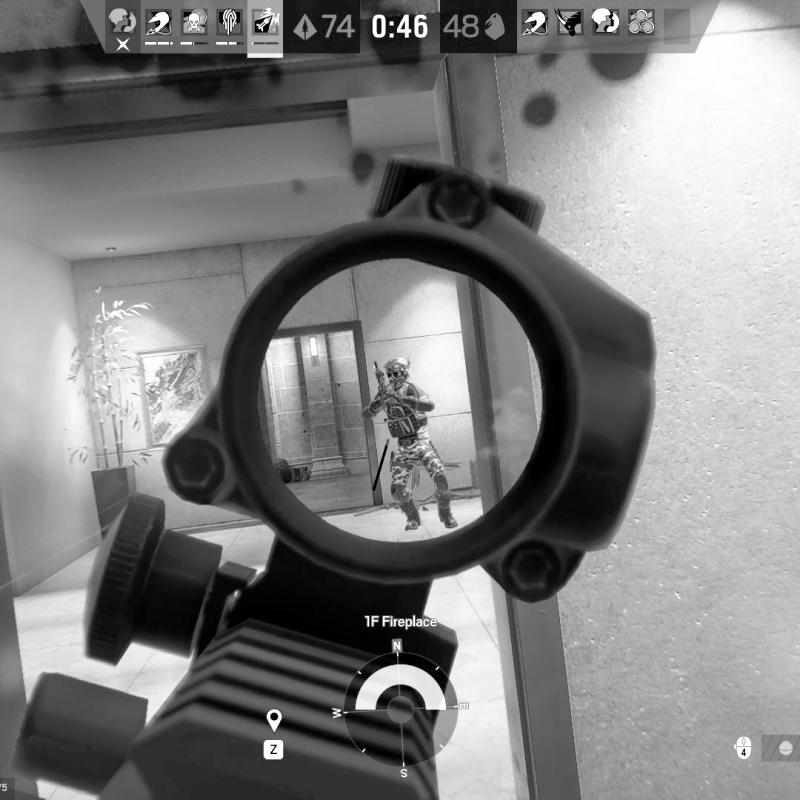Character: (360, 356, 460, 536)
Head: (386, 357, 411, 389)
